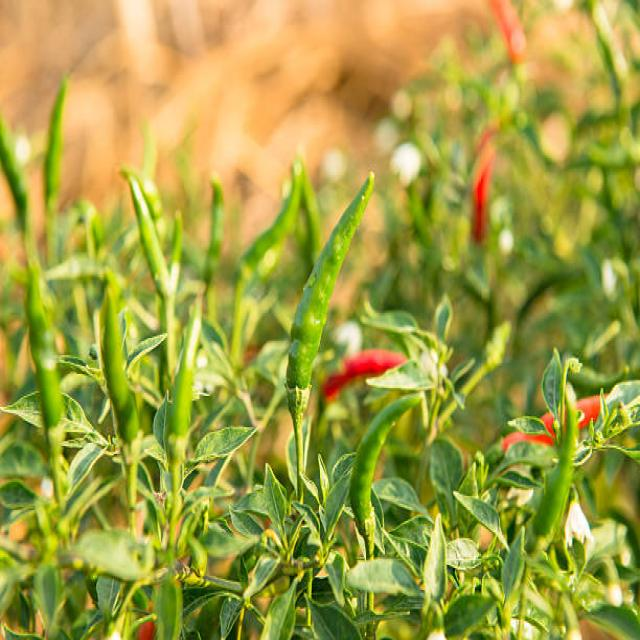Unripe: (293, 178, 374, 387), (355, 394, 425, 523), (540, 376, 581, 540), (101, 282, 138, 441)
